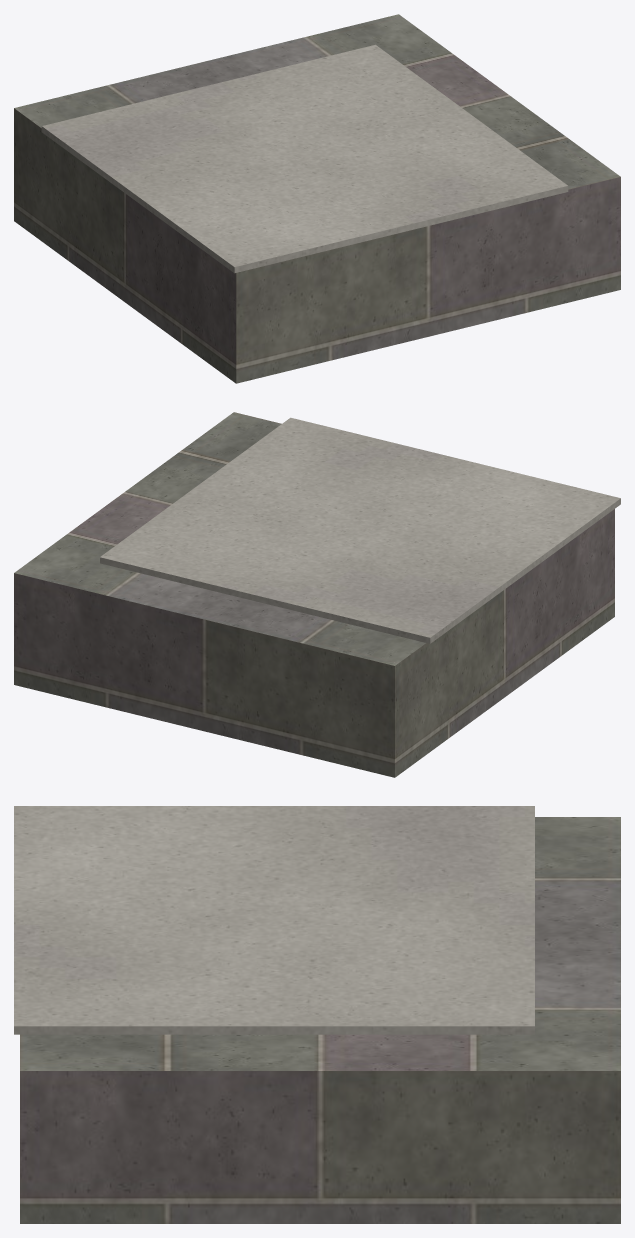
Rendered from floor_concrete_g_e0110.glb.
The picture shows the model from 3 angles, top to bottom: view 1: azimuth 30°, elevation 25°; view 2: azimuth 150°, elevation 25°; view 3: azimuth 270°, elevation 25°; orthographic projection. The views are drawn at different scales.
Parts seen in each view (by area): view 1: floor_concrete_g_e0110_plinth, floor_concrete_g_e0110_concrete; view 2: floor_concrete_g_e0110_plinth, floor_concrete_g_e0110_concrete; view 3: floor_concrete_g_e0110_plinth, floor_concrete_g_e0110_concrete.
Part boxes in pixels (x1,y1,x2,y2): floor_concrete_g_e0110_plinth: [14, 14, 620, 383]; floor_concrete_g_e0110_concrete: [41, 44, 568, 273]; floor_concrete_g_e0110_plinth: [14, 412, 614, 777]; floor_concrete_g_e0110_concrete: [100, 417, 620, 643]; floor_concrete_g_e0110_plinth: [20, 817, 620, 1223]; floor_concrete_g_e0110_concrete: [14, 806, 534, 1034].
Size of the model in its own units: 1.98 by 0.58 by 1.98.
Materials: 2 (2 with a texture image).
